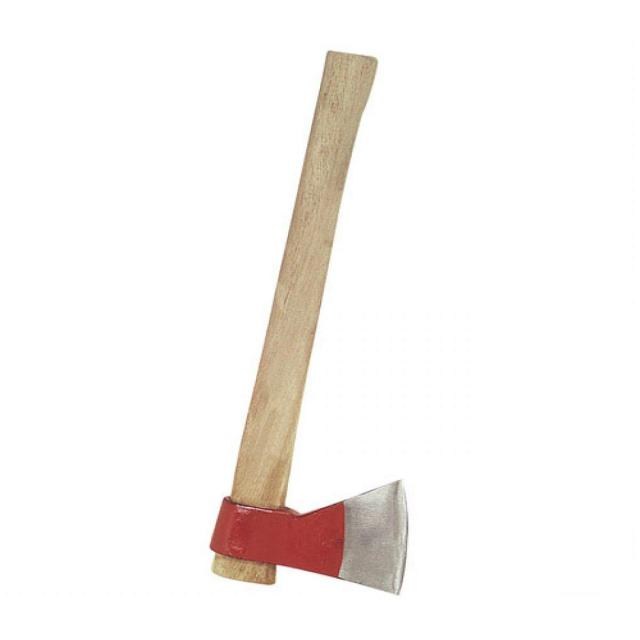Kapak: (163, 31, 474, 588)
